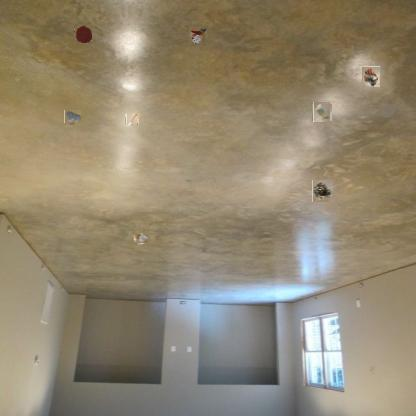dirty: (312, 180, 333, 202), (188, 26, 208, 46), (362, 66, 380, 87), (313, 103, 331, 122), (132, 229, 148, 245), (126, 113, 138, 126)
liquid: (74, 24, 92, 44), (65, 109, 81, 124)
